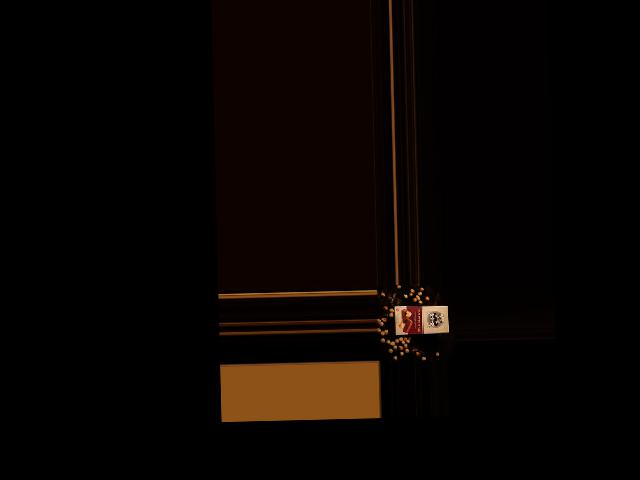chocolate: (392, 303, 450, 337)
